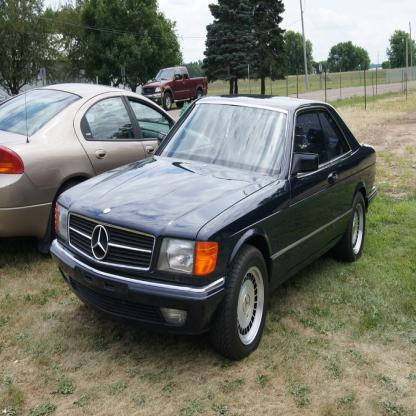Car: (50, 93, 378, 360), (0, 83, 213, 255)
Truck: (142, 65, 208, 113)
